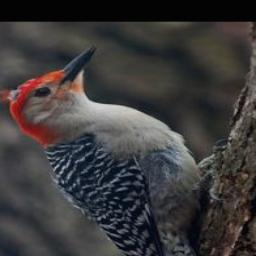Woodpecker: (0, 47, 234, 256)
